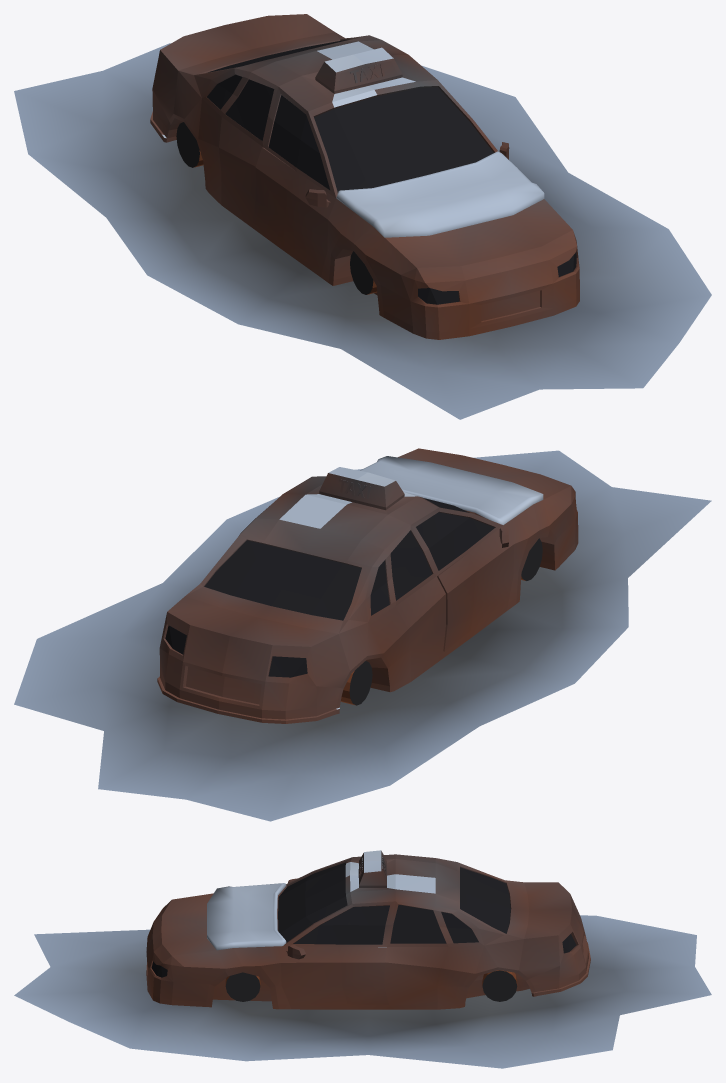
The model's file is taxi_burnt.glb.
3 renders of one model, top to bottom at view 1: azimuth 30°, elevation 25°; view 2: azimuth 150°, elevation 25°; view 3: azimuth 270°, elevation 25°, orthographic. The views are drawn at different scales.
Parts seen in each view (by area): view 1: Body; view 2: Body; view 3: Body.
Boxes of the visible parts, box(x1,y1,x2,y2) form: Body: box(14, 14, 711, 419); Body: box(14, 448, 711, 821); Body: box(14, 850, 711, 1068).
Bounding box in the file's own units: 4.1 × 1.38 × 7.3.
